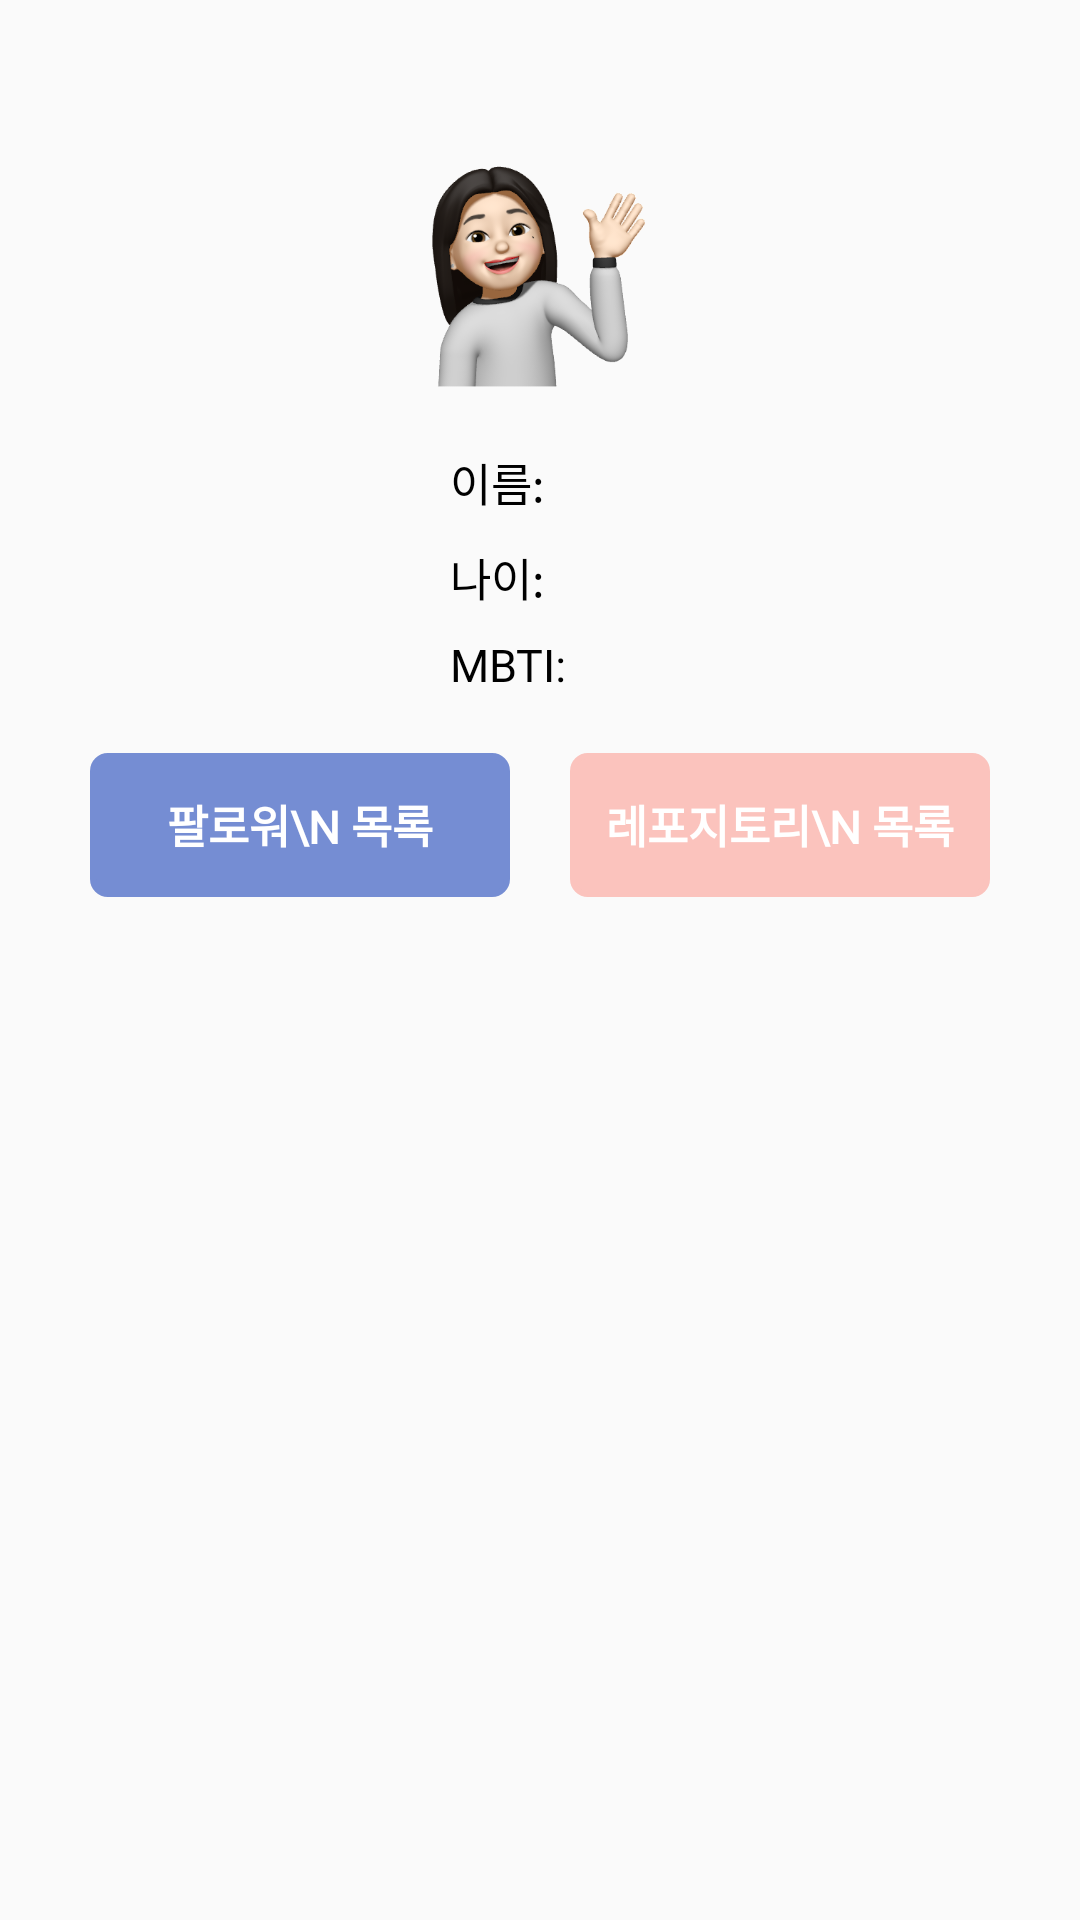

Point at icon controls on the screen. Image size 1080*1920, points as point (x, y).
profile: point (538, 276)
